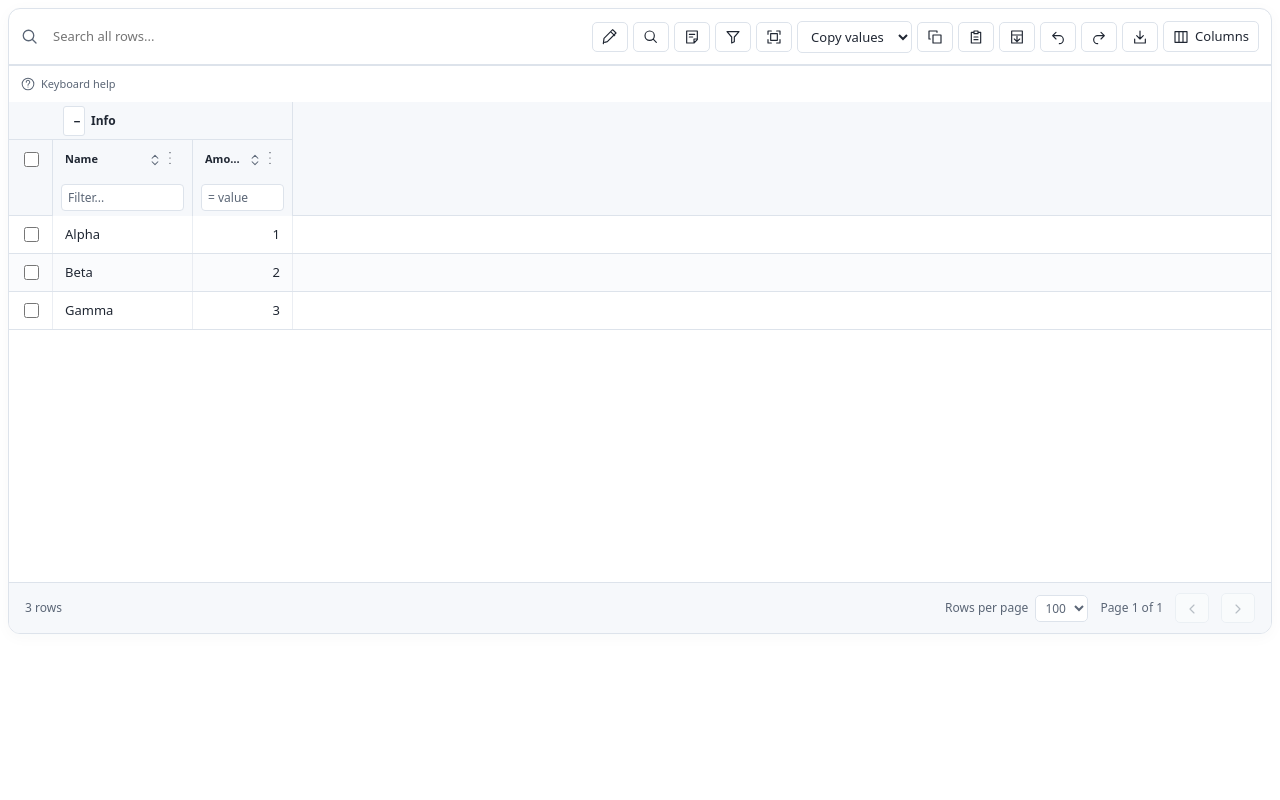
Test: native-friendly touch grid interaction › cancels an in-flight fill before opening an editor so release cannot write under the draft
This screenshot has width=1280, height=800.
Click the cell "1" at [243, 234], box [193,216,293,253]
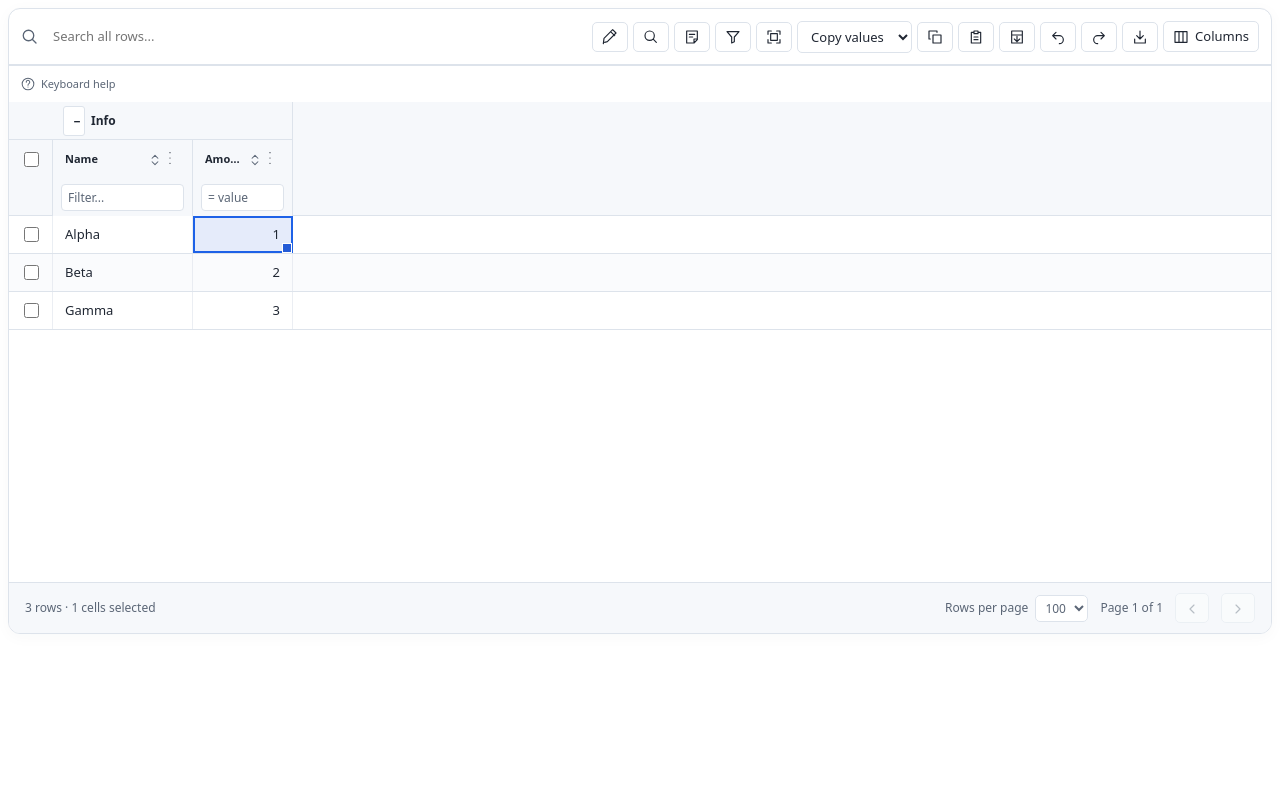
Press the mouse on the button named "Drag to fill cells; Alt-drag extends a numeric series" at [280, 238], box [268,223,292,253]
Press F2 in the cell "1", box [193,216,293,253]
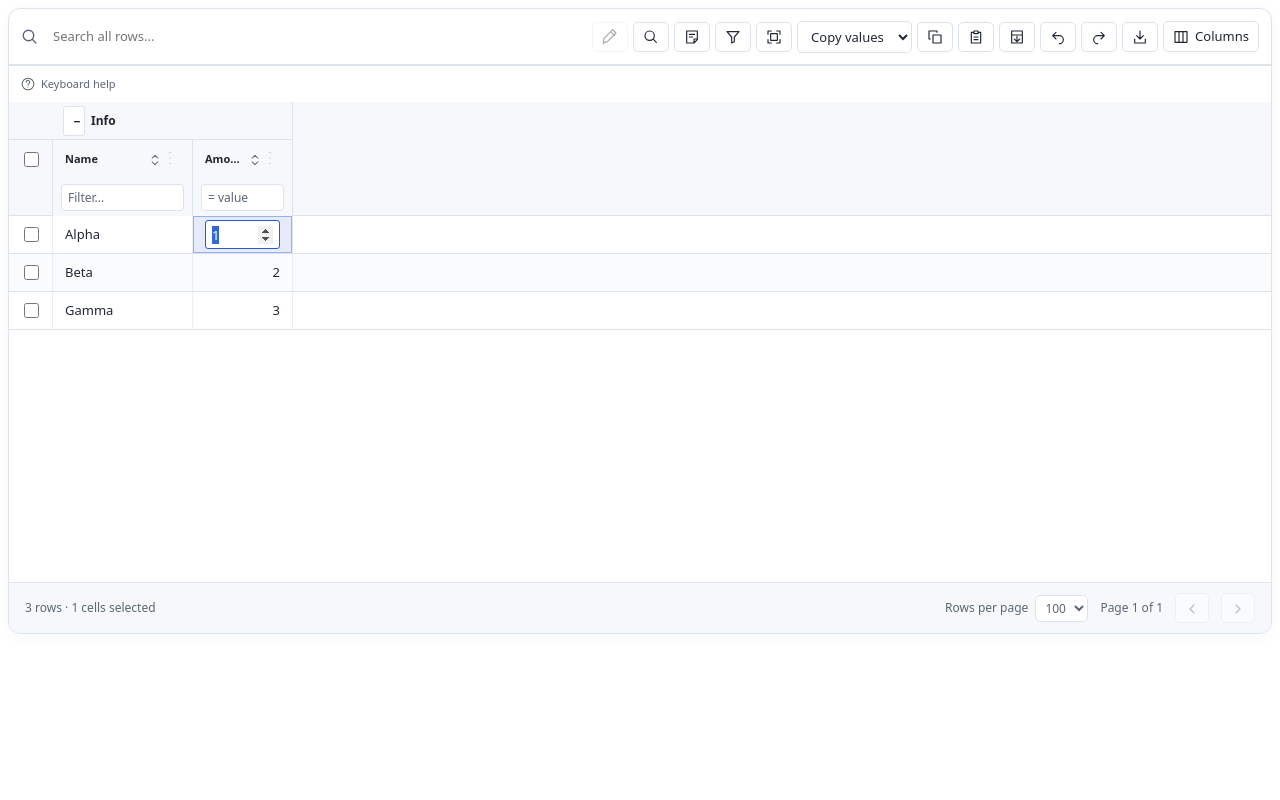
Check: the number field is shown, box [205,220,280,249]
